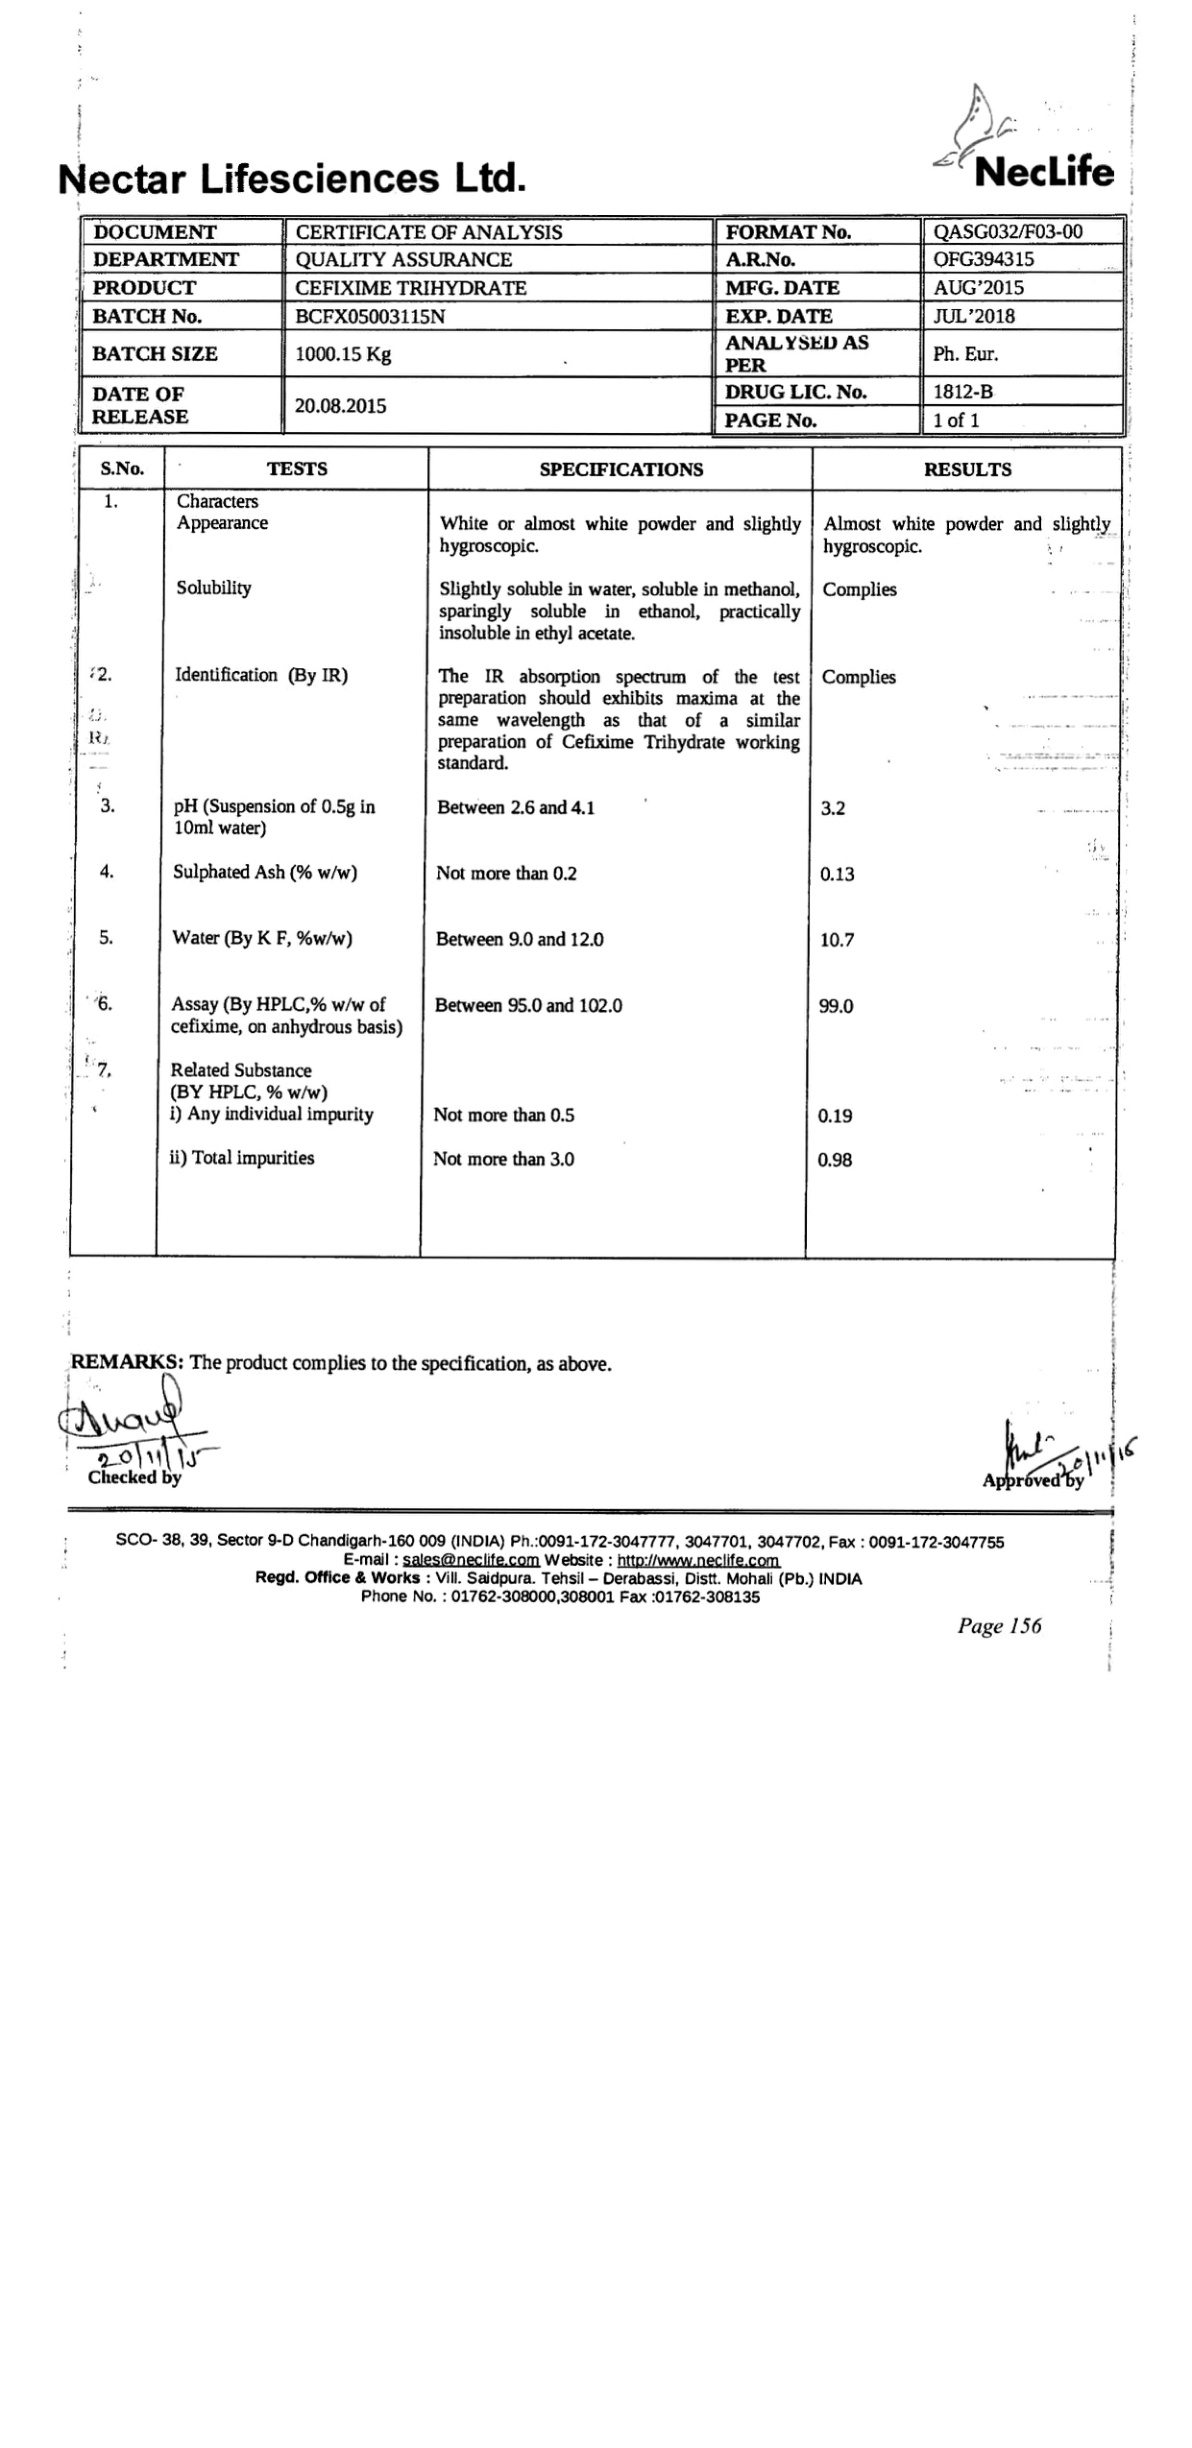full_lined: (78, 214, 1130, 439)
partial_lined: (69, 443, 1123, 1258)
